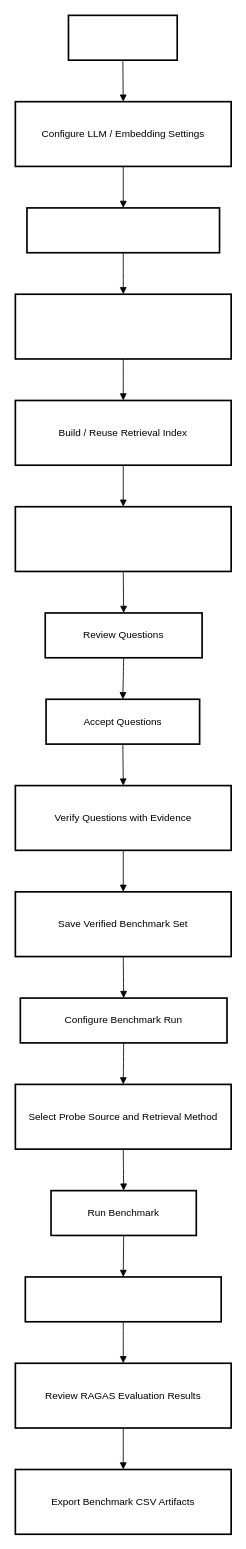
This 246x1549 diagram has some shape labels left out. Each missing label, with the centre of its shape:
"Create or Select Corpus" goes at pixel 123 230.
"Generate Candidate Questions" goes at pixel 123 538.
"Ingest PDFs and Chunk Documents" goes at pixel 123 326.
"Open App" goes at pixel 122 37.
"Review Retrieval Metrics" goes at pixel 123 1299.
